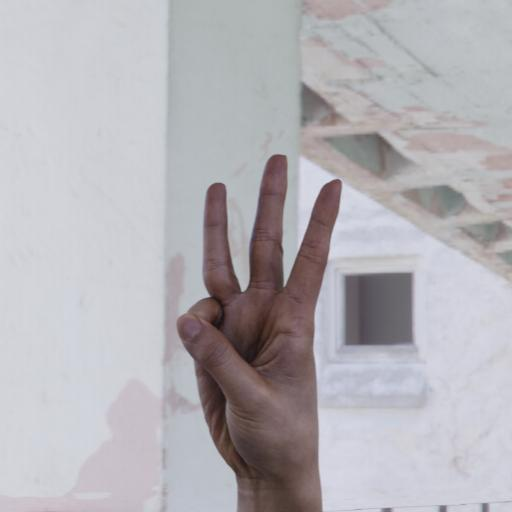W: (169, 124, 389, 512)
